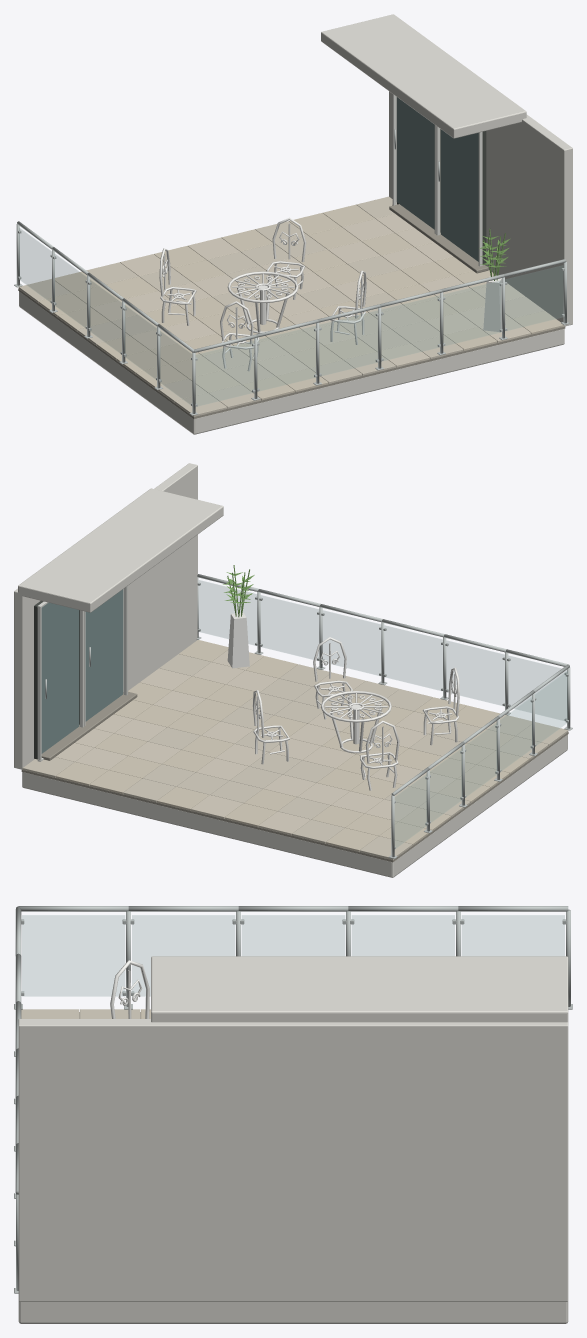
The model's file is varanda.glb.
3 views of the same model, one above another, from view 1: azimuth 30°, elevation 25°; view 2: azimuth 150°, elevation 25°; view 3: azimuth 270°, elevation 25° (orthographic). The views are drawn at different scales.
Parts seen in each view (by area): view 1: Reboco branco / referência fotográfica, Vidro do guarda-corpo / transparência WebGL, Piso cerâmico bege 0, Piso cerâmico bege 2, Piso cerâmico bege 1, Vidro lateral opaco / interior não reconstruído, Varanda_Ferro_Pintura_Branca, Guarda-corpo aço acetinado, Juntas e base / aproximação, Caixilhos alumínio branco, Gaxetas cinza, Varanda_Folhas_Bambu; view 2: Reboco branco / referência fotográfica, Piso cerâmico bege 0, Vidro do guarda-corpo / transparência WebGL, Piso cerâmico bege 2, Piso cerâmico bege 1, Vidro lateral opaco / interior não reconstruído, Varanda_Ferro_Pintura_Branca, Guarda-corpo aço acetinado, Juntas e base / aproximação, Caixilhos alumínio branco, Gaxetas cinza, Varanda_Folhas_Bambu; view 3: Reboco branco / referência fotográfica, Vidro do guarda-corpo / transparência WebGL, Guarda-corpo aço acetinado, Piso cerâmico bege 2, Varanda_Ferro_Pintura_Branca.
Boxes of the visible parts, x1,y1,x2,y2 form: Reboco branco / referência fotográfica: [19, 14, 572, 434]; Vidro do guarda-corpo / transparência WebGL: [19, 228, 563, 405]; Piso cerâmico bege 0: [38, 204, 564, 400]; Piso cerâmico bege 2: [18, 196, 544, 416]; Piso cerâmico bege 1: [91, 214, 531, 376]; Vidro lateral opaco / interior não reconstruído: [397, 97, 478, 261]; Varanda_Ferro_Pintura_Branca: [159, 217, 505, 371]; Guarda-corpo aço acetinado: [14, 129, 569, 415]; Juntas e base / aproximação: [18, 204, 565, 418]; Caixilhos alumínio branco: [392, 94, 482, 266]; Gaxetas cinza: [397, 129, 486, 265]; Varanda_Folhas_Bambu: [479, 228, 510, 280]; Reboco branco / referência fotográfica: [14, 463, 567, 877]; Piso cerâmico bege 0: [55, 640, 529, 851]; Vidro do guarda-corpo / transparência WebGL: [199, 580, 567, 847]; Piso cerâmico bege 2: [22, 654, 568, 859]; Piso cerâmico bege 1: [55, 650, 456, 835]; Vidro lateral opaco / interior não reconstruído: [41, 589, 123, 753]; Varanda_Ferro_Pintura_Branca: [227, 612, 459, 790]; Guarda-corpo aço acetinado: [45, 574, 572, 858]; Juntas e base / aproximação: [21, 691, 568, 862]; Caixilhos alumínio branco: [37, 586, 127, 761]; Gaxetas cinza: [34, 601, 79, 759]; Varanda_Folhas_Bambu: [223, 565, 254, 617]; Reboco branco / referência fotográfica: [18, 956, 568, 1323]; Vidro do guarda-corpo / transparência WebGL: [22, 915, 564, 996]; Guarda-corpo aço acetinado: [14, 906, 572, 1293]; Piso cerâmico bege 2: [21, 1009, 140, 1018]; Varanda_Ferro_Pintura_Branca: [110, 960, 149, 1018].
Size of the model in its own units: 6.79 by 3.43 by 5.49.
